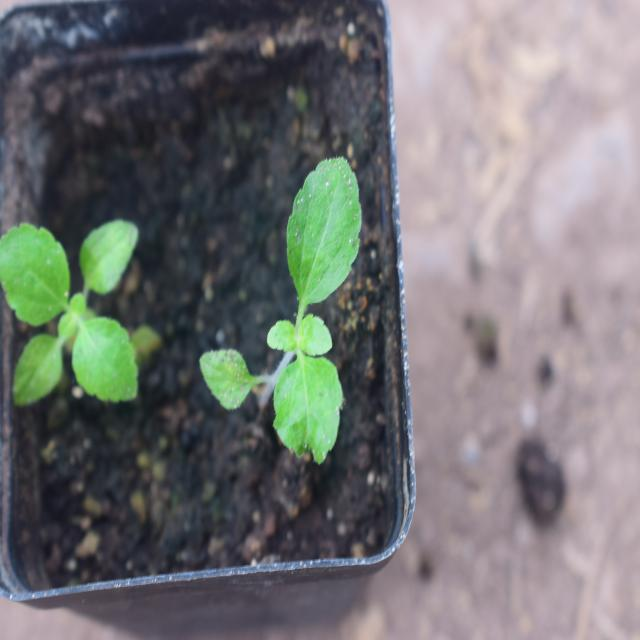billygoat_weed: (207, 160, 384, 463), (0, 201, 143, 414)
